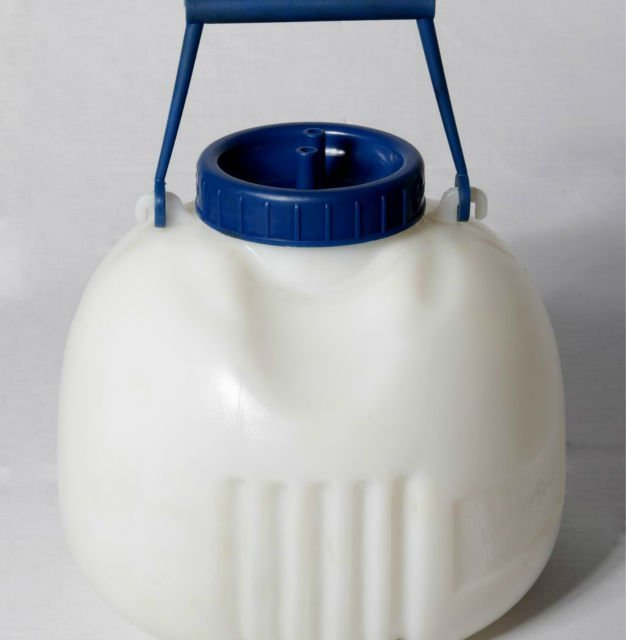Rec_Plastic: (30, 9, 570, 630)
